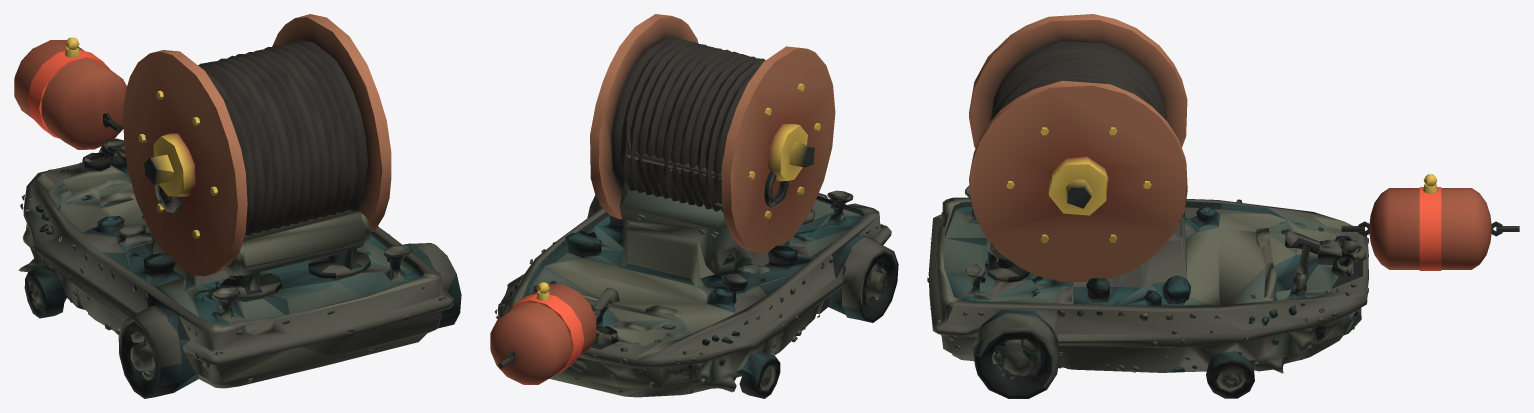
File: enemy_boom_tender_tripo.glb
3 views of the same model, side by side, from view 1: azimuth 30°, elevation 25°; view 2: azimuth 150°, elevation 25°; view 3: azimuth 270°, elevation 25° (orthographic). The views are drawn at different scales.
Visible parts, largest first — view 1: TenderHull, TenderReel, BoomFloat; view 2: TenderHull, TenderReel, BoomFloat; view 3: TenderHull, TenderReel, BoomFloat.
Boxes of the visible parts, left/top/right/bottom form: TenderHull: left=18, top=80, right=461, bottom=398; TenderReel: left=123, top=14, right=391, bottom=276; BoomFloat: left=14, top=37, right=126, bottom=149; TenderHull: left=494, top=66, right=898, bottom=398; TenderReel: left=590, top=14, right=835, bottom=253; BoomFloat: left=490, top=282, right=596, bottom=384; TenderHull: left=927, top=185, right=1368, bottom=398; TenderReel: left=969, top=14, right=1187, bottom=281; BoomFloat: left=1341, top=174, right=1519, bottom=270.
Bounding box in the file's own units: 2.49 × 2.29 × 4.33.
